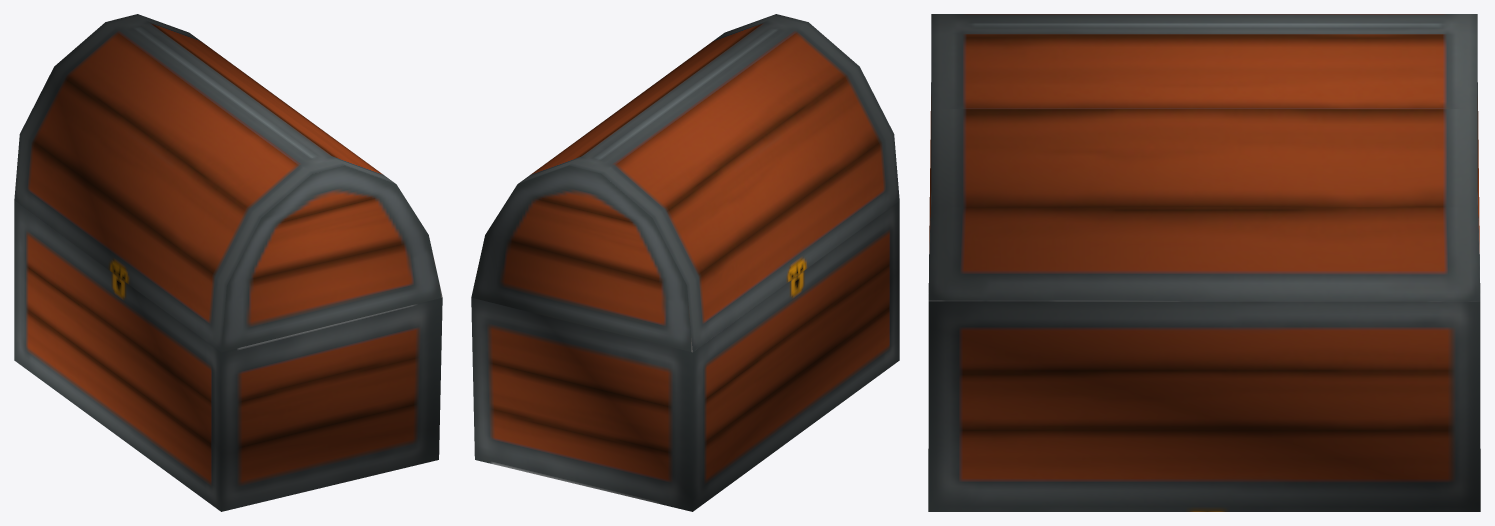
Rendered from cofrenormal_000001.obj.
3 renders of one model, left to right at view 1: azimuth 30°, elevation 25°; view 2: azimuth 150°, elevation 25°; view 3: azimuth 270°, elevation 25°, orthographic. The views are drawn at different scales.
Visible parts, largest first — view 1: cofre; view 2: cofre; view 3: cofre.
Boxes of the visible parts, box(x1,y1,x2,y2) form: cofre: box(14, 14, 442, 511); cofre: box(471, 14, 899, 511); cofre: box(928, 14, 1480, 511).
Bounding box in the file's own units: 3.86 × 5.29 × 6.34.
